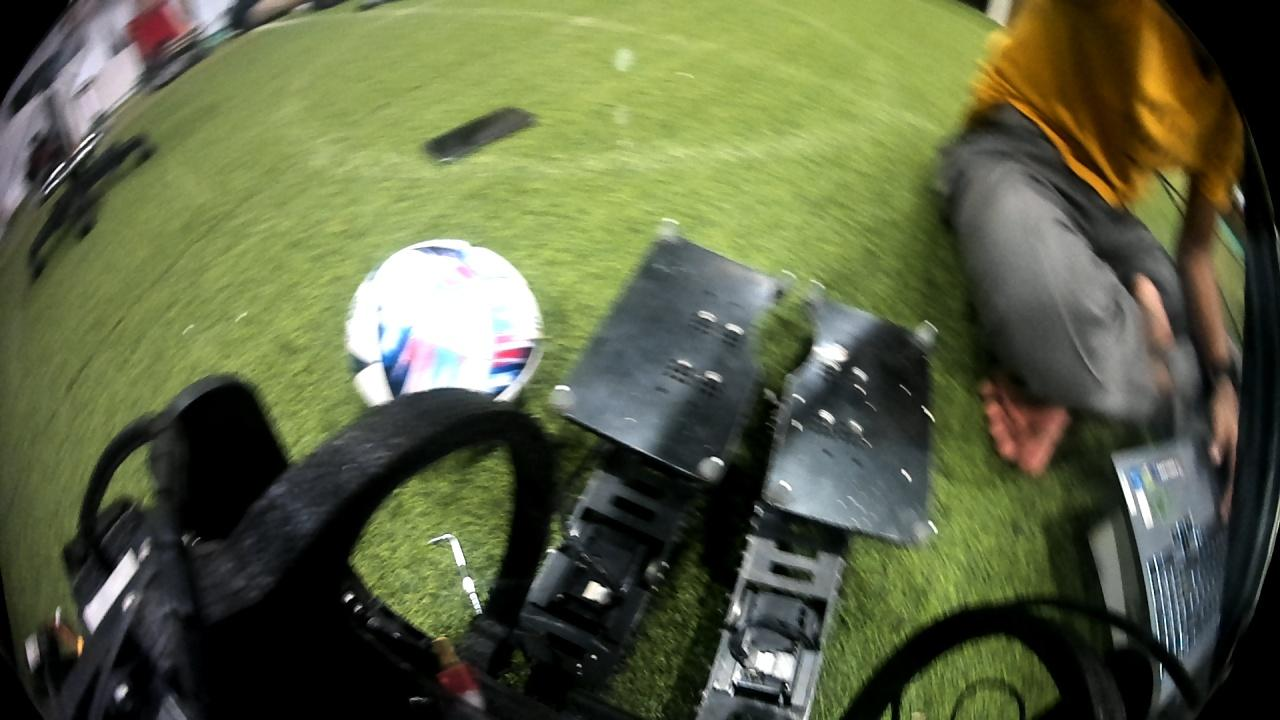ball: (340, 229, 546, 421)
